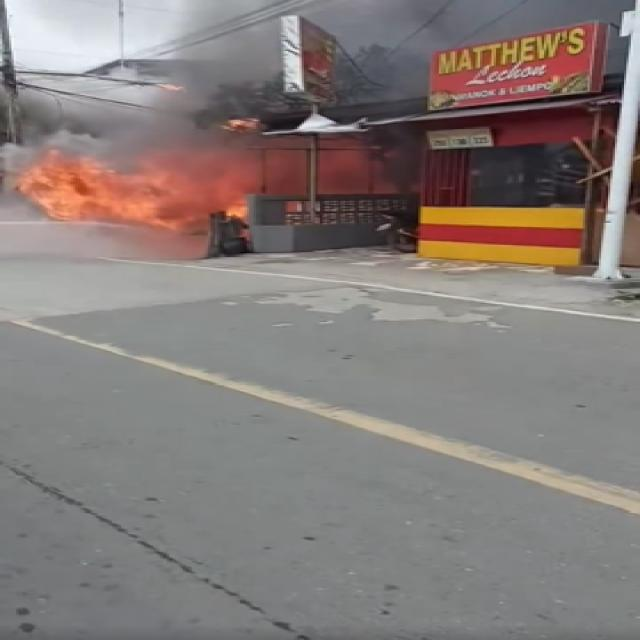Fire: (25, 154, 254, 231)
Smoke: (2, 112, 228, 210), (178, 0, 292, 118), (338, 2, 434, 108)
